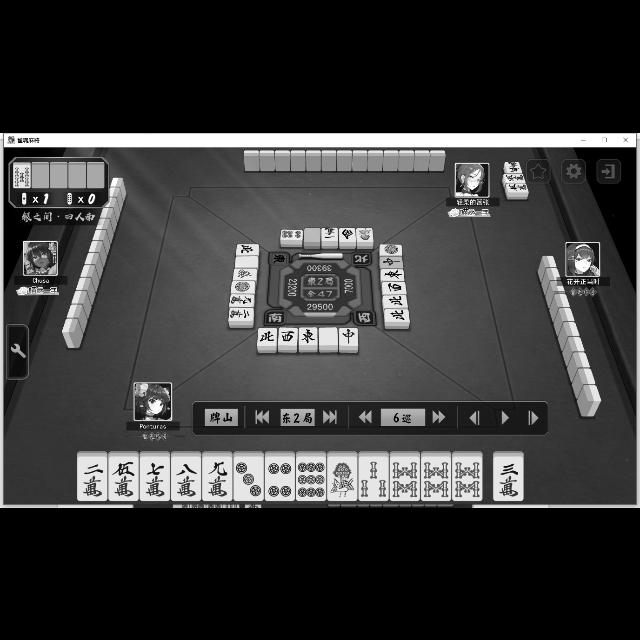1m: (320, 227, 338, 241)
1p: (379, 244, 403, 256), (231, 280, 255, 292)
1s: (327, 457, 358, 501), (356, 228, 374, 240)
2m: (77, 457, 107, 501), (228, 308, 254, 320)
3m: (492, 456, 524, 500)
3p: (234, 456, 264, 500)
3s: (359, 457, 388, 501)
4p: (264, 457, 294, 501)
5m: (109, 456, 139, 500), (504, 161, 524, 173), (506, 182, 528, 192), (502, 174, 526, 182)
5s: (14, 165, 31, 188)
6p: (280, 229, 302, 239)
7m: (140, 456, 168, 499)
8m: (172, 457, 200, 499)
8s: (390, 456, 420, 500), (422, 456, 450, 500), (454, 456, 482, 500)
9m: (202, 457, 232, 501), (230, 294, 254, 306)
9p: (296, 456, 326, 500)
chun: (339, 327, 358, 345), (379, 256, 403, 268)
haku: (320, 328, 338, 344), (235, 255, 257, 267), (304, 228, 320, 240)
hatsu: (234, 267, 256, 279)
nan: (339, 227, 356, 241)
pe: (258, 327, 276, 345), (382, 295, 408, 307), (384, 309, 410, 321), (236, 243, 258, 254)
sha: (279, 327, 297, 345), (382, 281, 408, 293)
tou: (299, 326, 317, 344), (380, 268, 404, 280)
